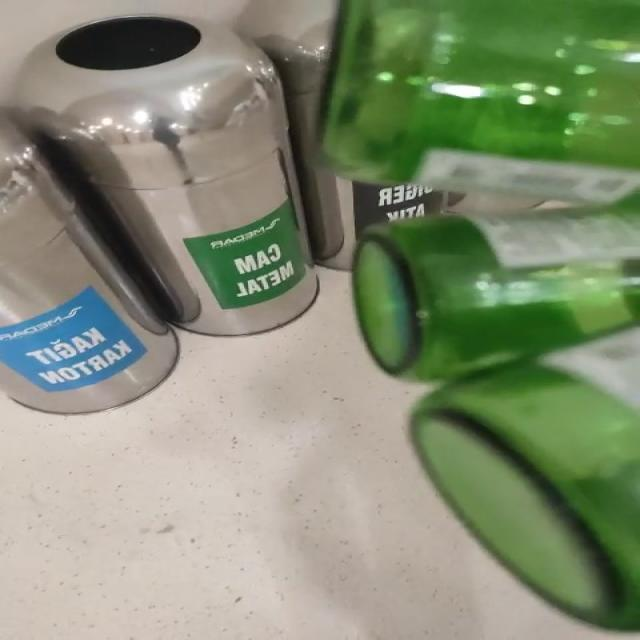glass: (323, 0, 640, 632)
